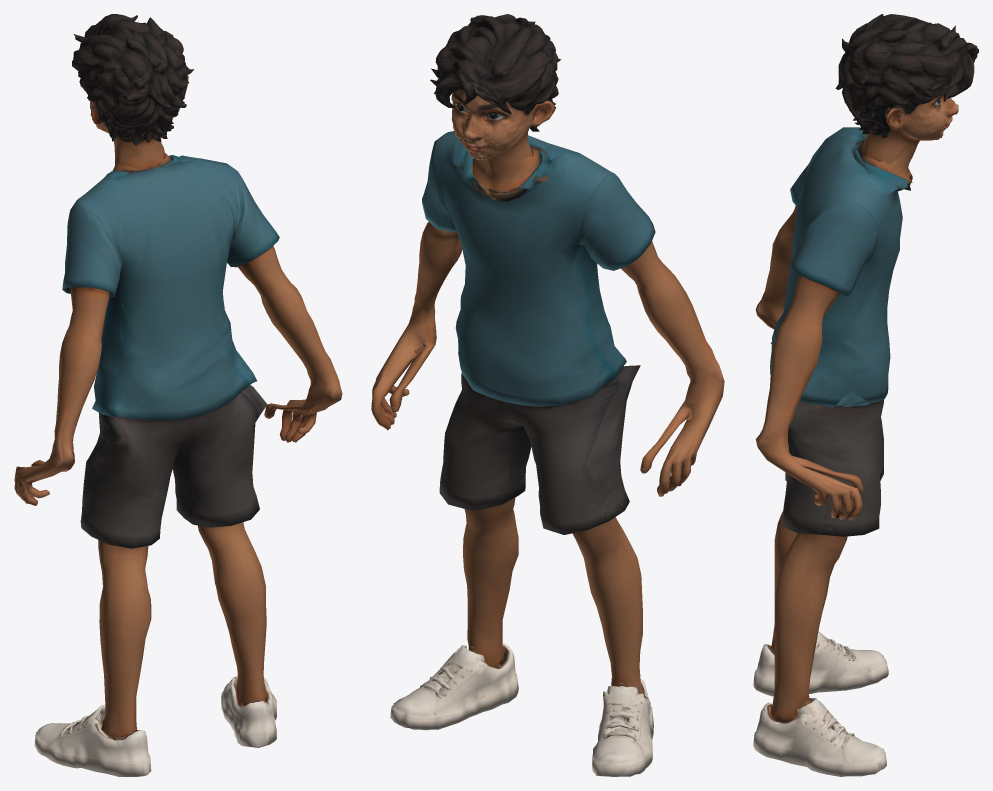
The model's file is teen_courier_clean_rig_upper_body.glb.
3 views of the same model, side by side, from view 1: azimuth 30°, elevation 25°; view 2: azimuth 150°, elevation 25°; view 3: azimuth 270°, elevation 25° (orthographic). The views are drawn at different scales.
Visible parts, largest first — view 1: TeenCourier_Body; view 2: TeenCourier_Body; view 3: TeenCourier_Body.
Part boxes in pixels (x1=…): TeenCourier_Body: x1=14, y1=14, x2=342, y2=776; TeenCourier_Body: x1=371, y1=14, x2=724, y2=776; TeenCourier_Body: x1=753, y1=14, x2=978, y2=776.
Bounding box in the file's own units: 0.7133 × 1.6 × 0.4648.
Materials: 5 (5 with a texture image).
